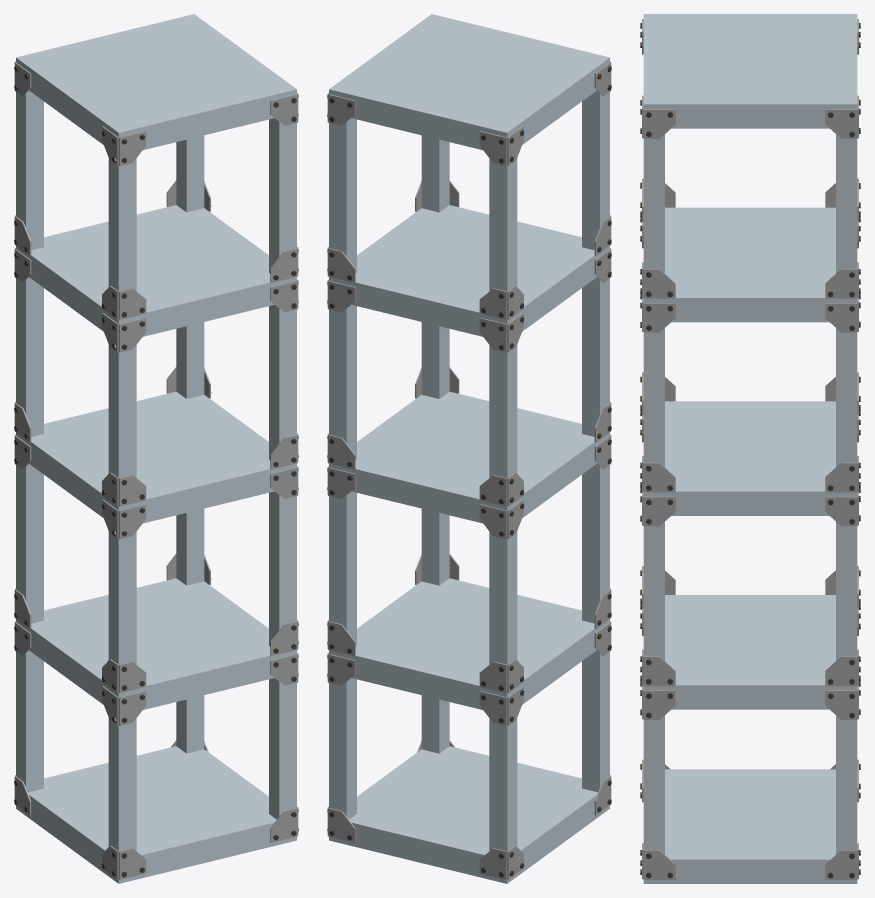
The model's file is 6_Racks_level_4.fbx.
3 renders of one model, left to right at view 1: azimuth 30°, elevation 25°; view 2: azimuth 150°, elevation 25°; view 3: azimuth 270°, elevation 25°, orthographic. The views are drawn at different scales.
Visible parts, largest first — view 1: 6_Racks_level_4; view 2: 6_Racks_level_4; view 3: 6_Racks_level_4.
Boxes of the visible parts, x1,y1,x2,y2 form: 6_Racks_level_4: (14, 14, 298, 883); 6_Racks_level_4: (327, 14, 611, 883); 6_Racks_level_4: (640, 14, 860, 883).
Bounding box in the file's own units: 206 × 805 × 206.
